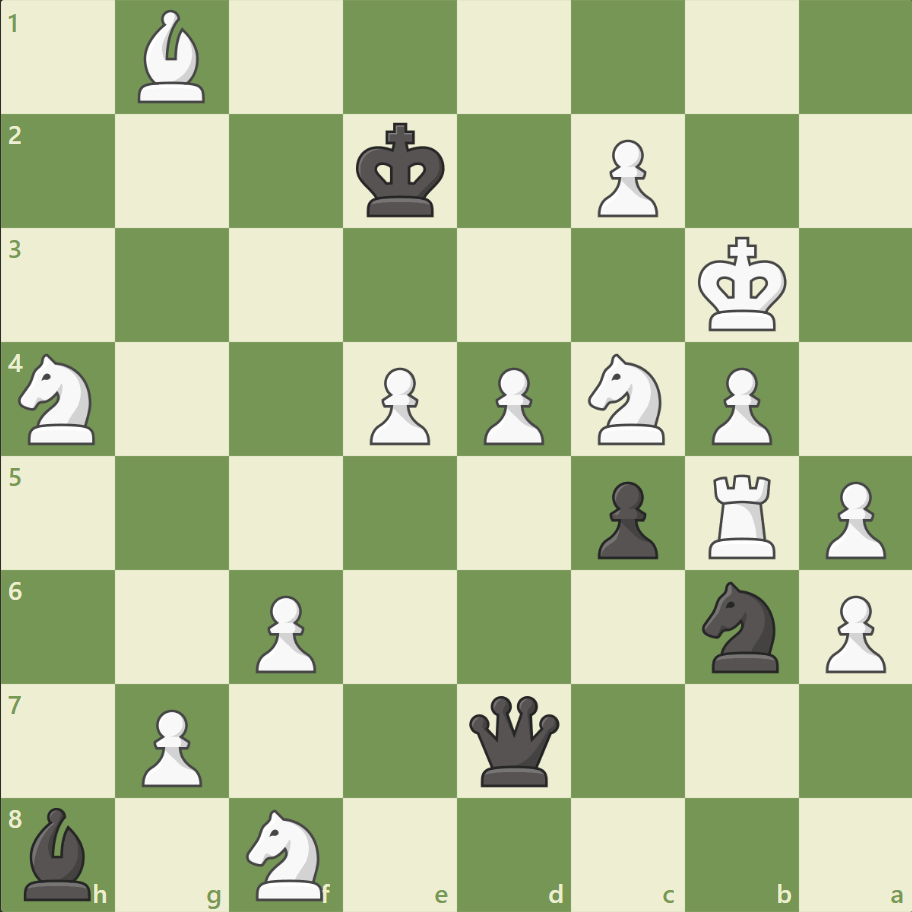B: (131, 6, 215, 109)
K: (692, 231, 792, 339)
N: (238, 802, 335, 904), (579, 348, 676, 450), (11, 348, 108, 450)
P: (133, 700, 208, 791), (247, 586, 322, 677), (701, 359, 776, 450), (474, 359, 549, 450), (815, 586, 889, 677), (815, 473, 889, 564), (361, 359, 435, 450), (588, 132, 662, 223)
R: (700, 466, 783, 563)
b: (17, 801, 101, 904)
k: (351, 117, 451, 225)
n: (692, 575, 789, 677)
p: (588, 473, 662, 564)
q: (464, 690, 563, 789)
